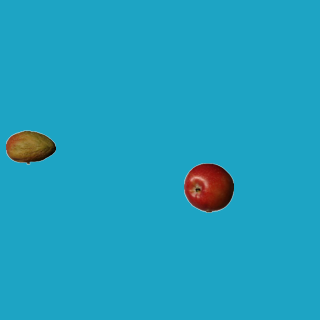Apple Braeburn: (183, 162, 233, 212)
Papaya: (5, 122, 55, 172)
